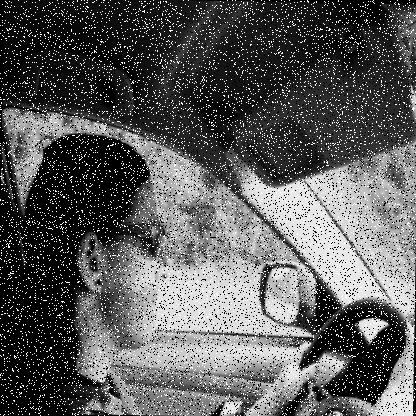Car: (37, 20, 412, 415)
